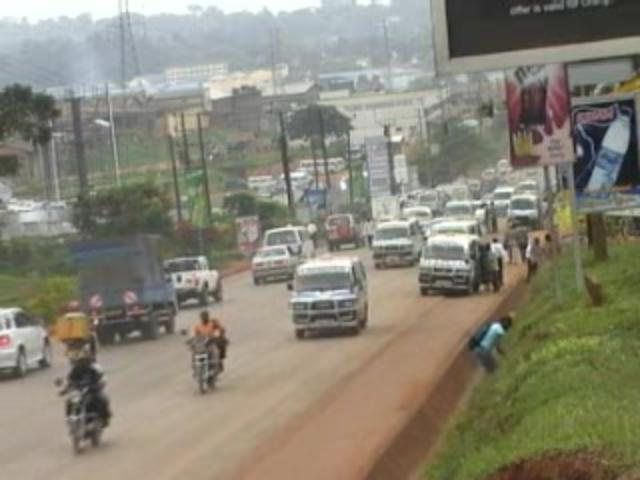car: (0, 307, 53, 378), (163, 255, 222, 307), (251, 244, 299, 285), (323, 213, 362, 252)
motorcycle: (56, 370, 111, 454), (55, 307, 101, 372), (184, 334, 226, 394)
truck: (72, 234, 177, 344)
van: (285, 255, 368, 337), (417, 232, 478, 294), (370, 219, 424, 269), (262, 226, 314, 261), (507, 193, 544, 230), (429, 219, 479, 243)
